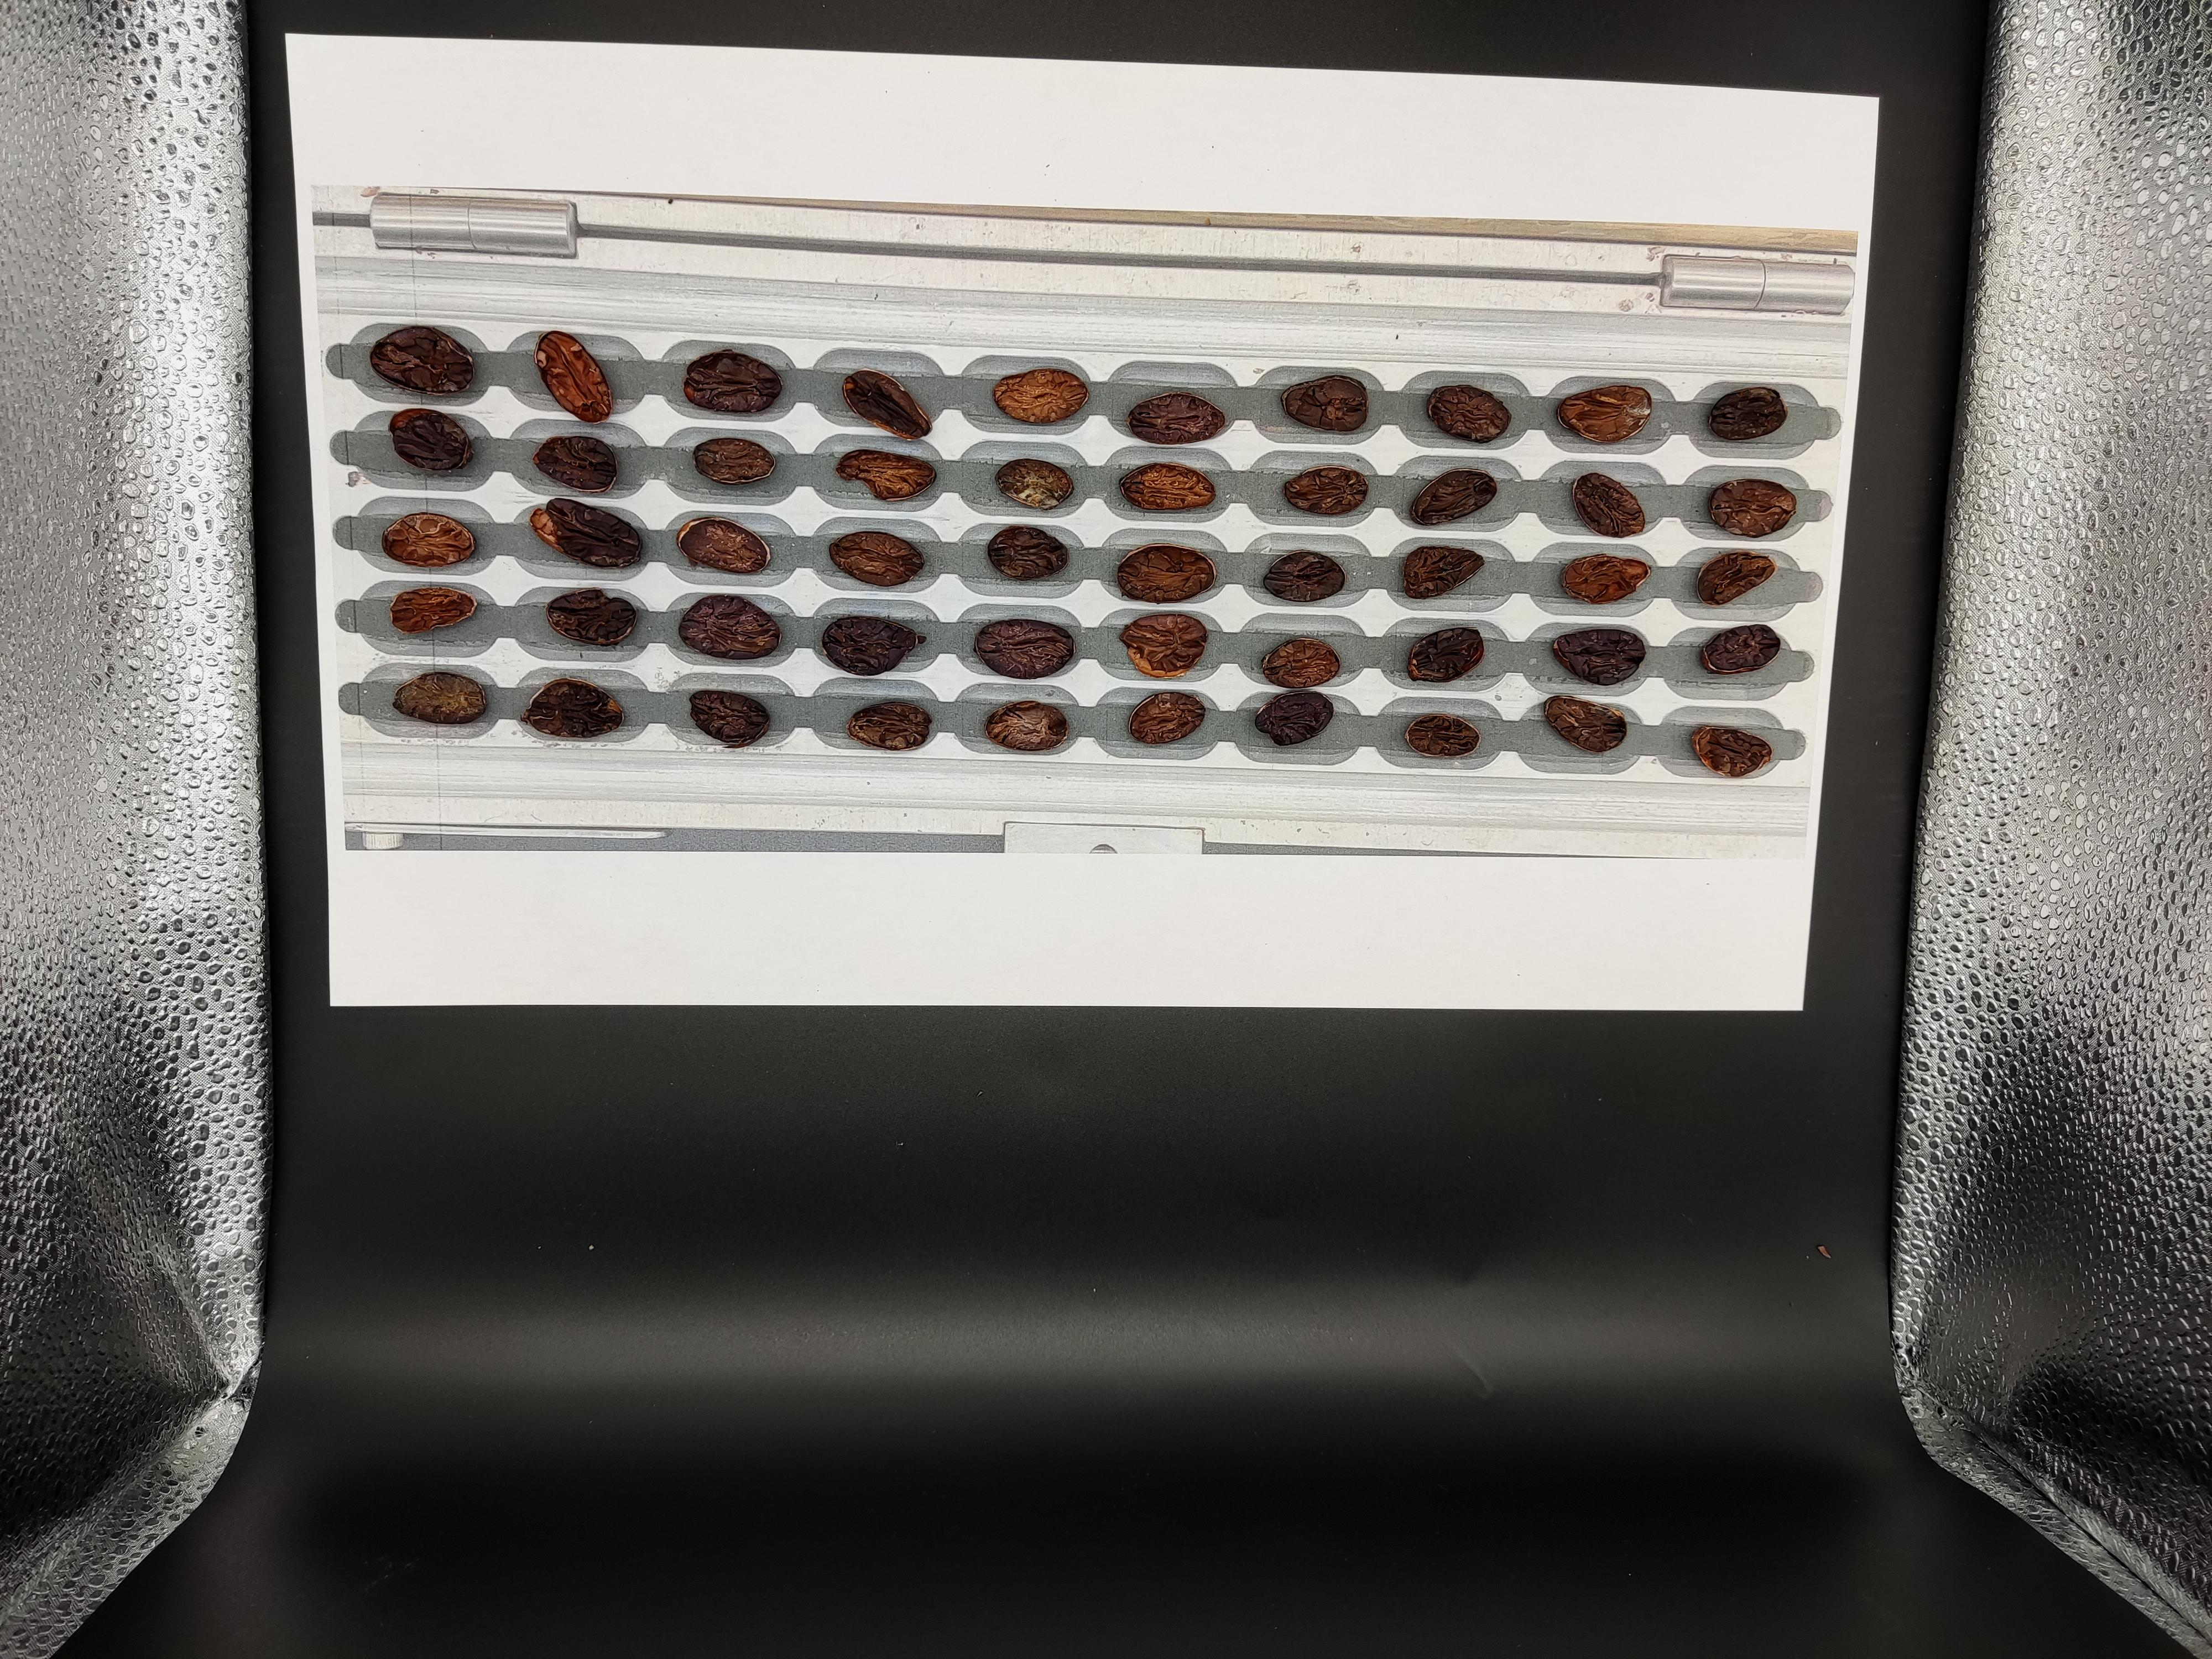Brown - G1: (273, 981, 317, 1028), (570, 1124, 620, 1159), (430, 1169, 481, 1201), (197, 1108, 246, 1138), (655, 1046, 702, 1075)
Brown - G2: (716, 1087, 761, 1122), (798, 1093, 848, 1122), (195, 1073, 246, 1101), (869, 1178, 909, 1213), (427, 1042, 479, 1068), (577, 1164, 617, 1197), (575, 1051, 625, 1075)
Brown - G3: (568, 1089, 631, 1119), (791, 1164, 834, 1202), (873, 1054, 920, 1089), (728, 1007, 777, 1040), (510, 995, 559, 1026), (425, 1084, 475, 1112), (803, 1053, 843, 1087), (502, 1171, 549, 1201), (869, 1093, 914, 1122), (644, 1138, 690, 1164)
Brown - G4: (355, 1033, 399, 1061)
Insect-damaged: (200, 1155, 253, 1182)
Mouldy: (796, 1002, 850, 1040), (507, 1046, 550, 1072)
Partly Purple - G1: (279, 1112, 329, 1141), (273, 1030, 315, 1065)
Partly Purple - G2: (347, 1112, 402, 1150), (348, 986, 397, 1025)
Partly Purple - G3: (578, 1009, 634, 1039)
Partly Purple - G4: (348, 1075, 397, 1105)
Total Purple - G3: (420, 1126, 477, 1159), (495, 1126, 550, 1159), (869, 1127, 913, 1162), (641, 1164, 686, 1197)
Very Dark Brown - G1: (272, 1063, 333, 1105), (270, 1154, 320, 1190), (195, 1019, 244, 1054), (719, 1175, 758, 1204)
Very Dark Brown - G2: (427, 997, 482, 1037), (188, 978, 246, 1014), (792, 1133, 846, 1166), (350, 1161, 397, 1195), (716, 1127, 763, 1162), (871, 1004, 916, 1039), (503, 1080, 552, 1112)
Very Dark Brown - G3: (723, 1046, 770, 1084), (655, 1000, 700, 1035), (644, 1089, 691, 1122)
